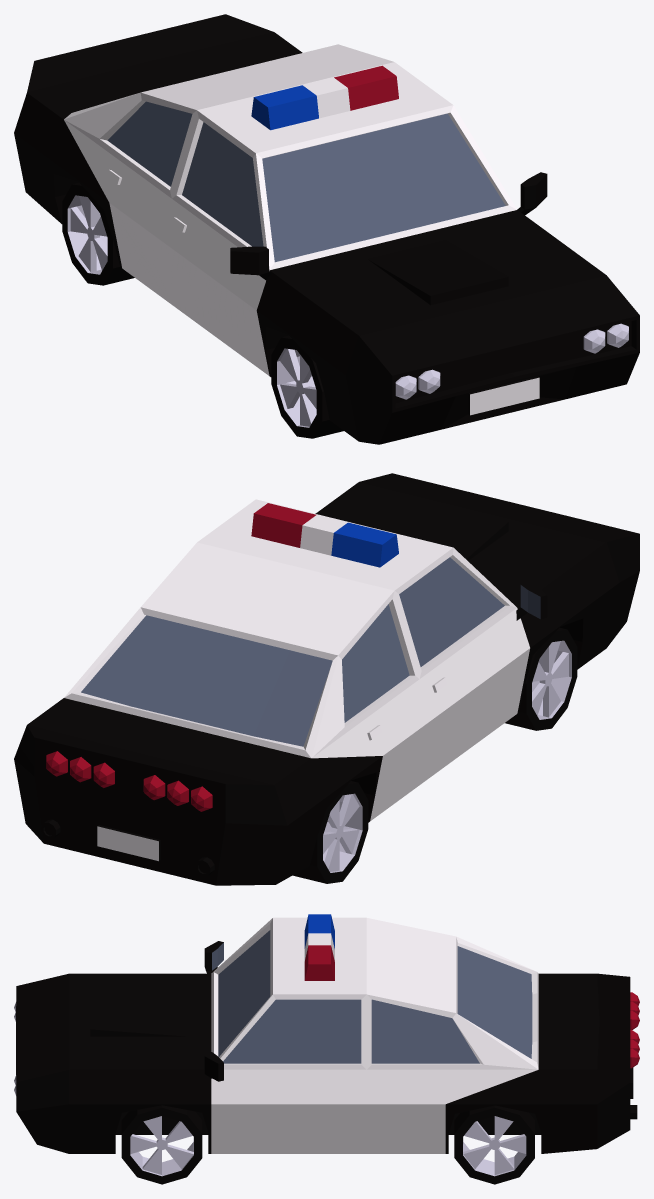
File: rgsdev_police_muscle.glb
3 views of the same model, one above another, from view 1: azimuth 30°, elevation 25°; view 2: azimuth 150°, elevation 25°; view 3: azimuth 270°, elevation 25° (orthographic). The views are drawn at different scales.
Parts seen in each view (by area): view 1: Police Muscle, Police Muscle wheel front right, Police Muscle wheel rear right; view 2: Police Muscle, Police Muscle wheel front right, Police Muscle wheel rear right; view 3: Police Muscle, Police Muscle wheel front left, Police Muscle wheel rear left.
Boxes of the visible parts, x1,y1,x2,y2 form: Police Muscle: [14, 14, 639, 444]; Police Muscle wheel front right: [271, 335, 343, 438]; Police Muscle wheel rear right: [62, 182, 134, 285]; Police Muscle: [14, 473, 639, 885]; Police Muscle wheel front right: [505, 628, 577, 730]; Police Muscle wheel rear right: [293, 781, 368, 883]; Police Muscle: [14, 914, 639, 1153]; Police Muscle wheel front left: [121, 1105, 202, 1184]; Police Muscle wheel rear left: [454, 1105, 534, 1184].
Bounding box in the file's own units: 2.81 × 2.09 × 6.06.
